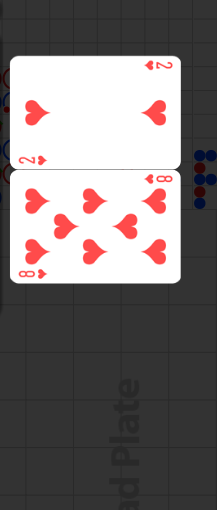2H: (142, 59, 174, 72)
8H: (18, 267, 49, 280)
